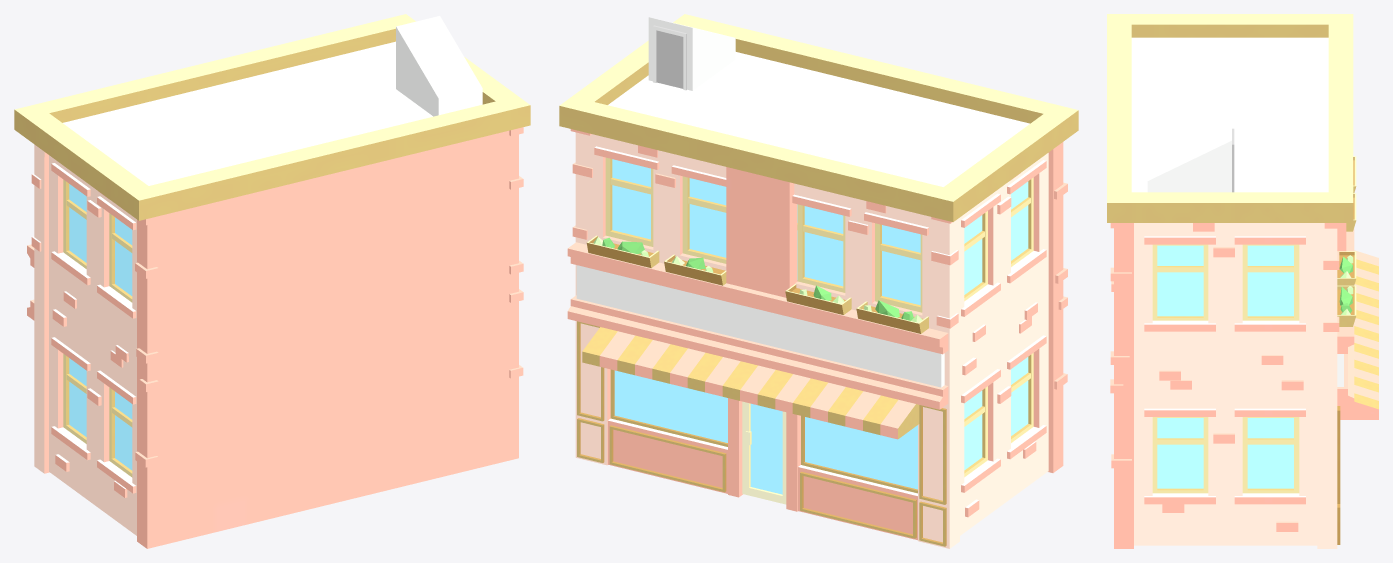
Rendered from dwelling&store.001.glb.
The picture shows the model from 3 angles, left to right: view 1: azimuth 30°, elevation 25°; view 2: azimuth 150°, elevation 25°; view 3: azimuth 270°, elevation 25°; orthographic projection.
Parts seen in each view (by area): view 1: dwelling&store.001(Clone); view 2: dwelling&store.001(Clone); view 3: dwelling&store.001(Clone).
Boxes of the visible parts, box(x1,y1,x2,y2) form: dwelling&store.001(Clone): box(14, 14, 530, 548); dwelling&store.001(Clone): box(559, 14, 1078, 548); dwelling&store.001(Clone): box(1107, 14, 1378, 548).
Bounding box in the file's own units: 7.08 × 6.98 × 4.31.
1 material, 1 textured.
